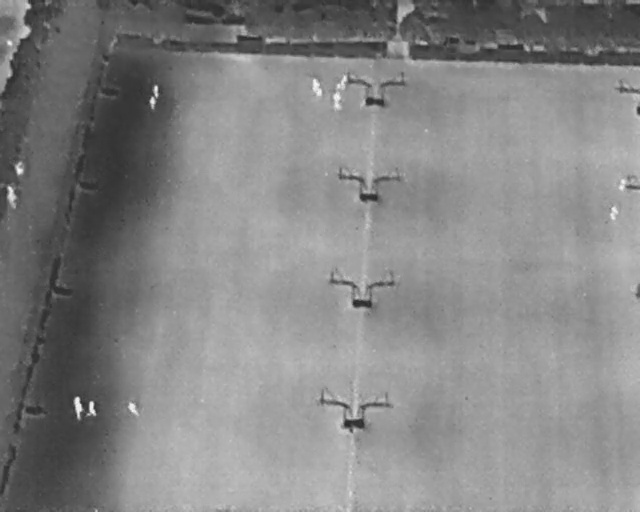Person: (123, 397, 143, 420), (71, 395, 84, 422), (331, 92, 344, 112), (608, 203, 621, 223), (338, 73, 350, 91), (85, 400, 97, 418), (616, 176, 629, 192), (152, 83, 160, 99), (312, 77, 320, 92), (149, 97, 156, 110), (316, 88, 324, 98), (335, 84, 343, 94)
